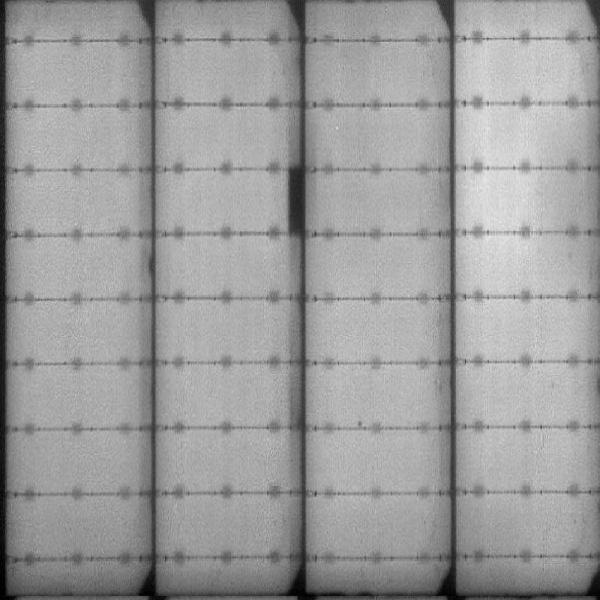black_border: (285, 162, 310, 243)
